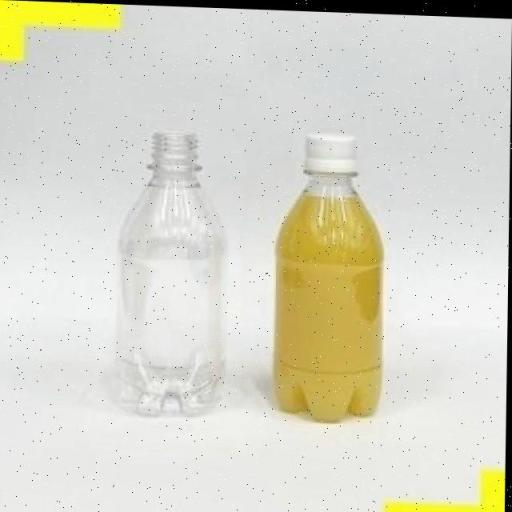plastic: (252, 108, 410, 444), (100, 116, 252, 430)
